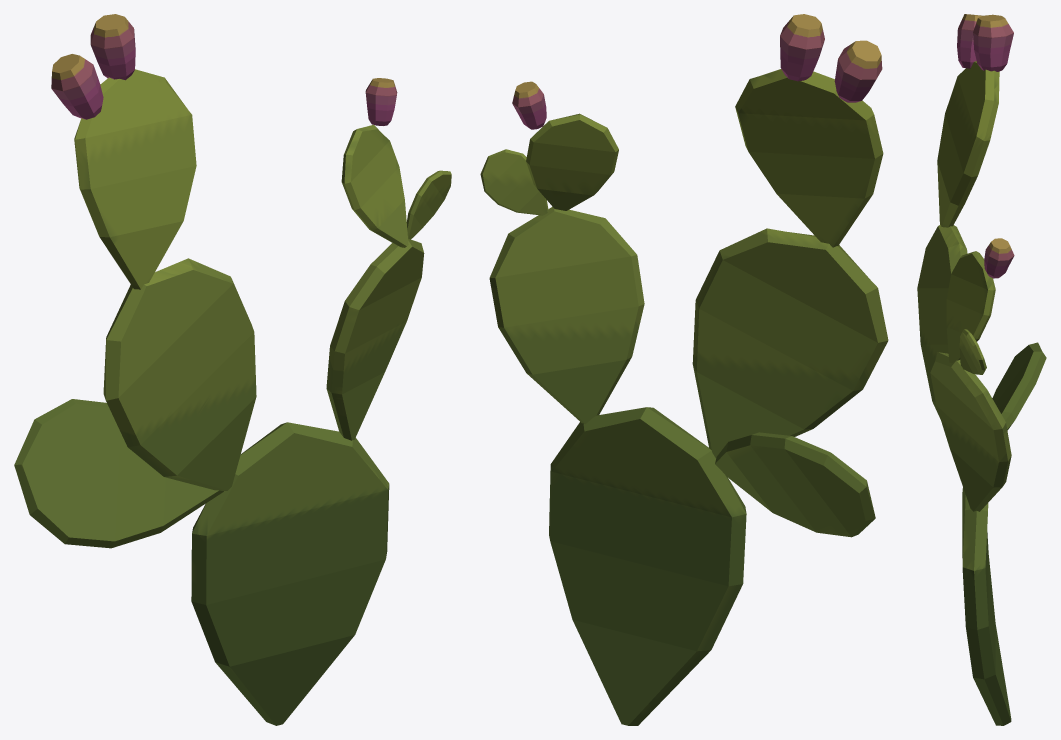
Rendered from cactus5.fbx.
The picture shows the model from 3 angles, left to right: view 1: azimuth 30°, elevation 25°; view 2: azimuth 150°, elevation 25°; view 3: azimuth 270°, elevation 25°; orthographic projection. The views are drawn at different scales.
Visible parts, largest first — view 1: Hoja.004; view 2: Hoja.004; view 3: Hoja.004.
Boxes of the visible parts, <box> form: Hoja.004: <box>14,14,451,725</box>; Hoja.004: <box>480,14,888,725</box>; Hoja.004: <box>917,14,1046,725</box>.
Bounding box in the file's own units: 248 × 431 × 79.31.
